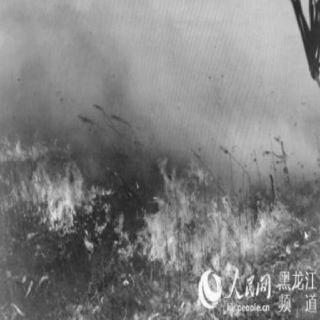Fire: (115, 155, 302, 277), (0, 127, 111, 249)
